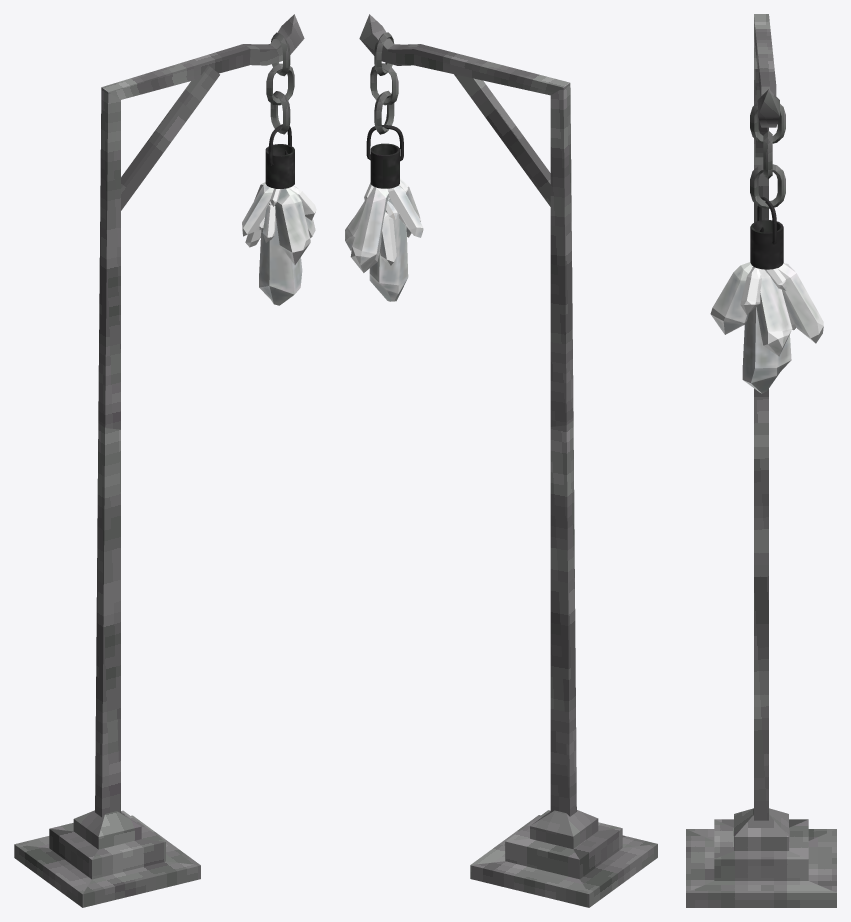
File: CL_Pole_White 2.fbx
3 views of the same model, side by side, from view 1: azimuth 30°, elevation 25°; view 2: azimuth 150°, elevation 25°; view 3: azimuth 270°, elevation 25° (orthographic). The views are drawn at different scales.
Visible parts, largest first — view 1: New, Crystal03; view 2: New, Crystal03; view 3: New, Crystal03, dfk_chainlink__2_, dfk_chainlink, dfk_chainlink__1_.
Part boxes in pixels (<box>): New: <box>14,14,304,907</box>; Crystal03: <box>242,124,316,305</box>; New: <box>359,14,657,907</box>; Crystal03: <box>345,125,423,301</box>; New: <box>686,14,836,907</box>; Crystal03: <box>710,197,823,393</box>; dfk_chainlink__2_: <box>750,164,785,208</box>; dfk_chainlink: <box>750,102,785,143</box>; dfk_chainlink__1_: <box>763,130,772,178</box>.
Bounding box in the file's own units: 124 × 353 × 54.33.
2 materials, 2 textured.
